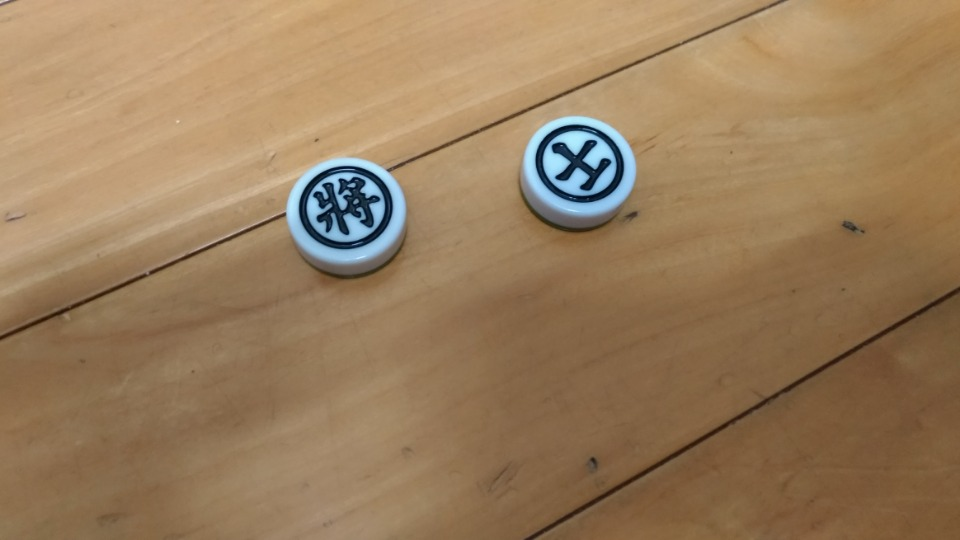b-advisor: (505, 106, 661, 235)
b-king: (280, 149, 421, 281)
